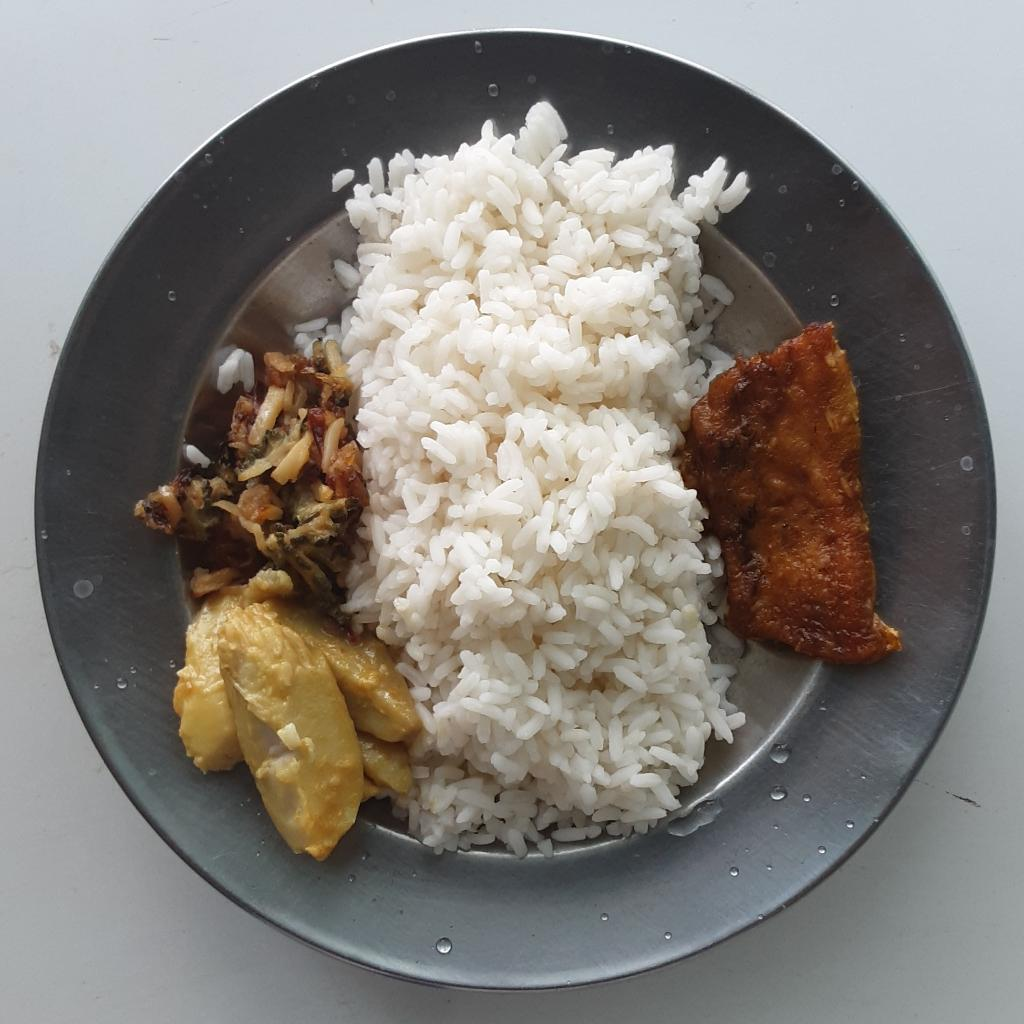banana: (171, 570, 422, 860)
fish: (670, 326, 909, 661)
korola-vaji: (125, 332, 354, 594)
rice: (295, 97, 750, 862)
